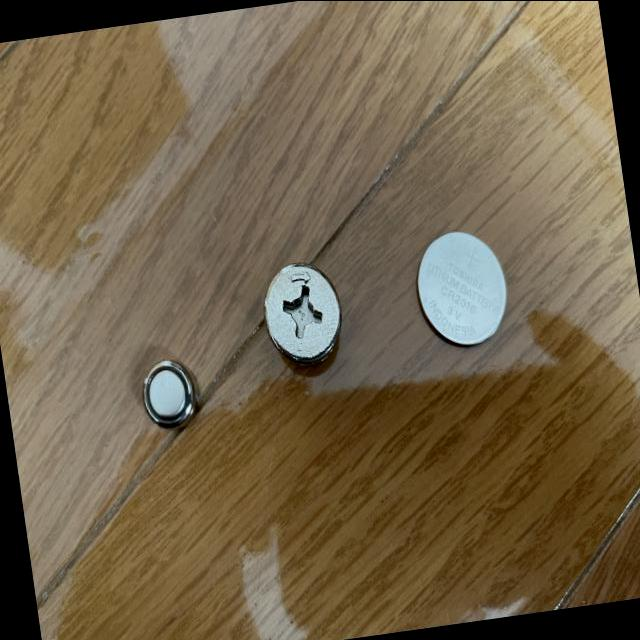COIN: (412, 225, 514, 352), (140, 358, 204, 432)
